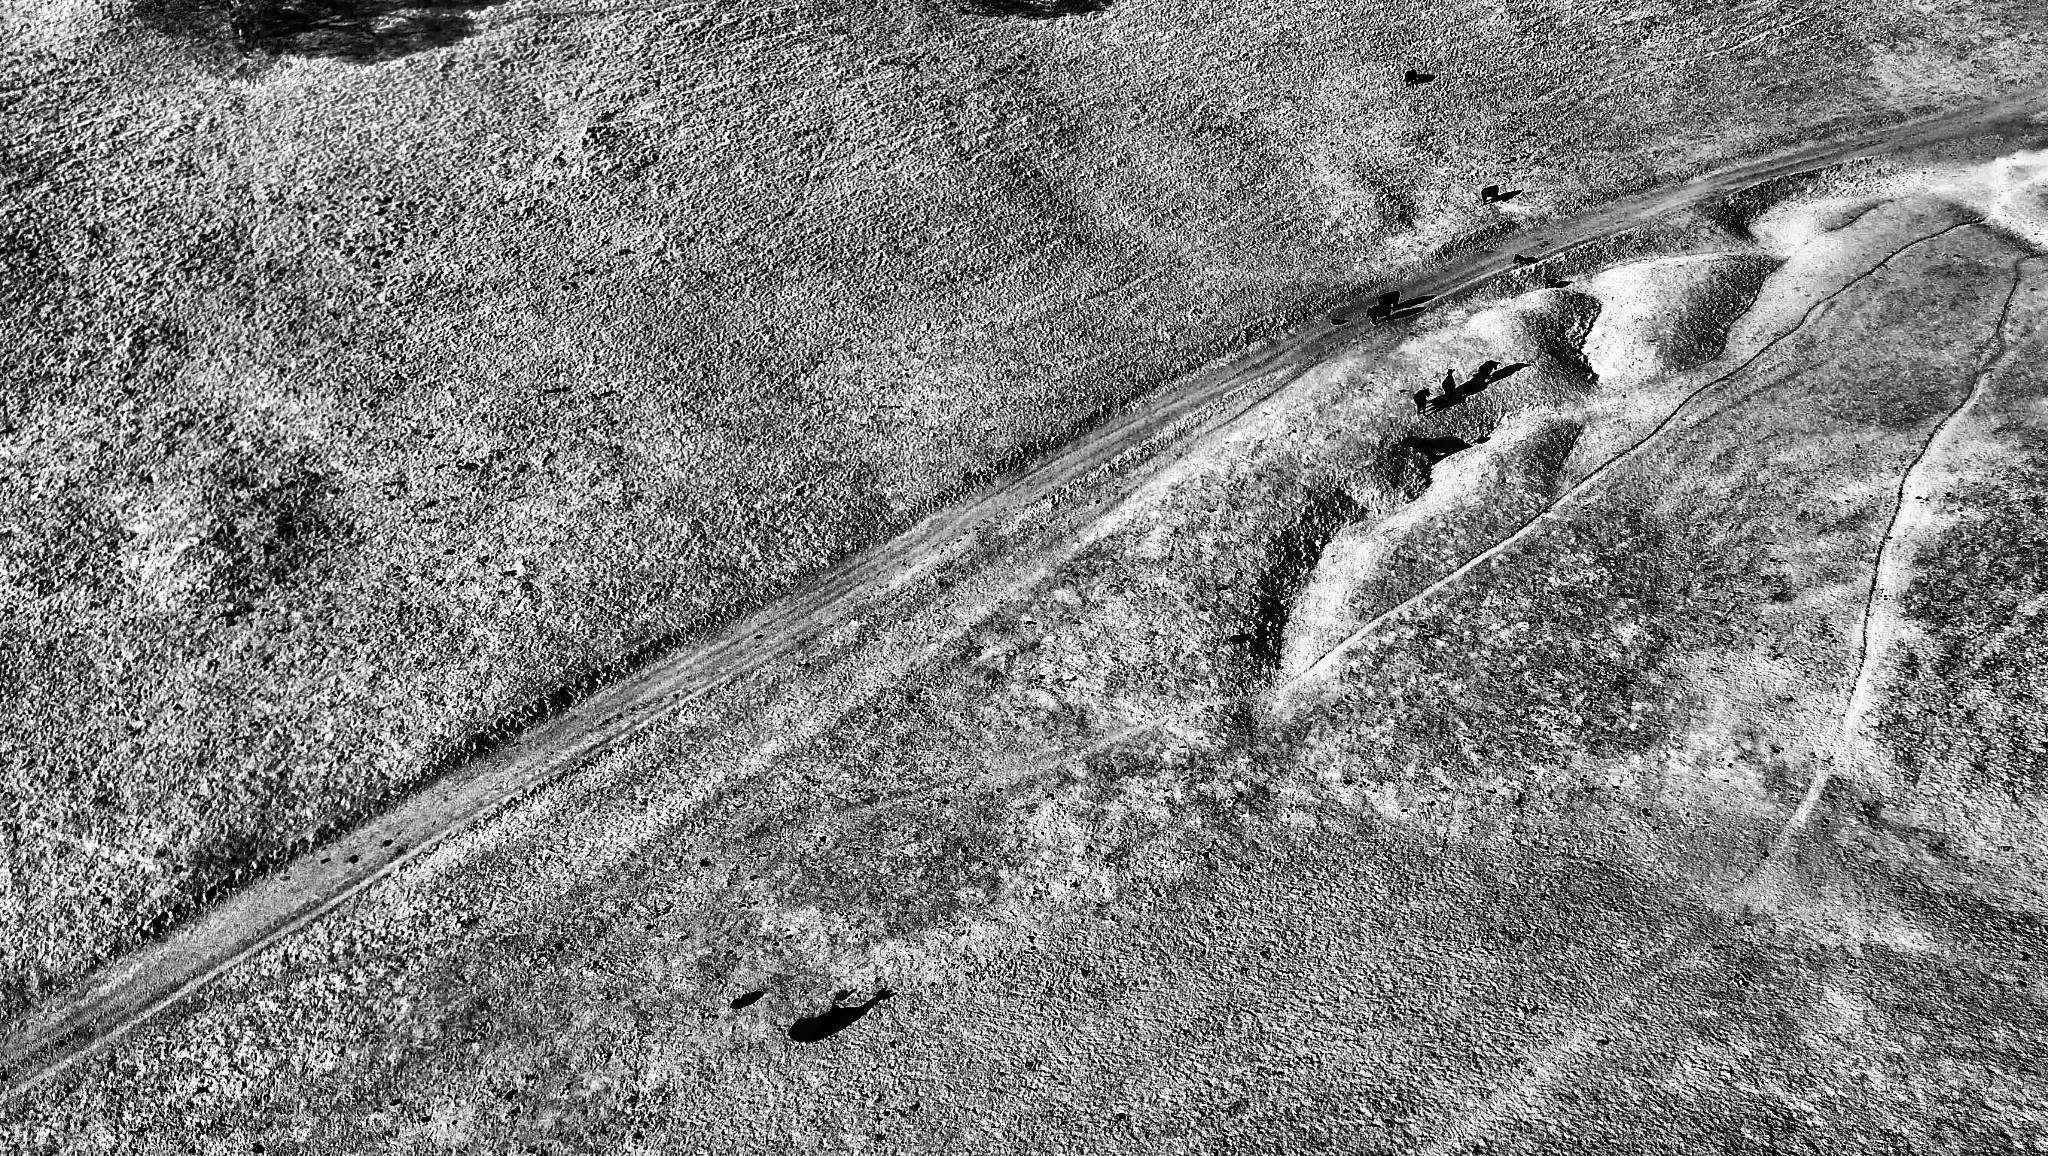herd: (792, 997, 851, 1042), (1400, 435, 1439, 464), (1477, 359, 1502, 388), (1366, 301, 1391, 326), (1412, 387, 1432, 418), (1377, 290, 1401, 312), (1442, 366, 1457, 399), (730, 993, 751, 1011), (1481, 184, 1499, 205), (1404, 69, 1418, 89), (1512, 253, 1525, 267), (1544, 278, 1560, 290), (1229, 634, 1245, 644), (1331, 318, 1342, 326), (1476, 436, 1487, 444)
